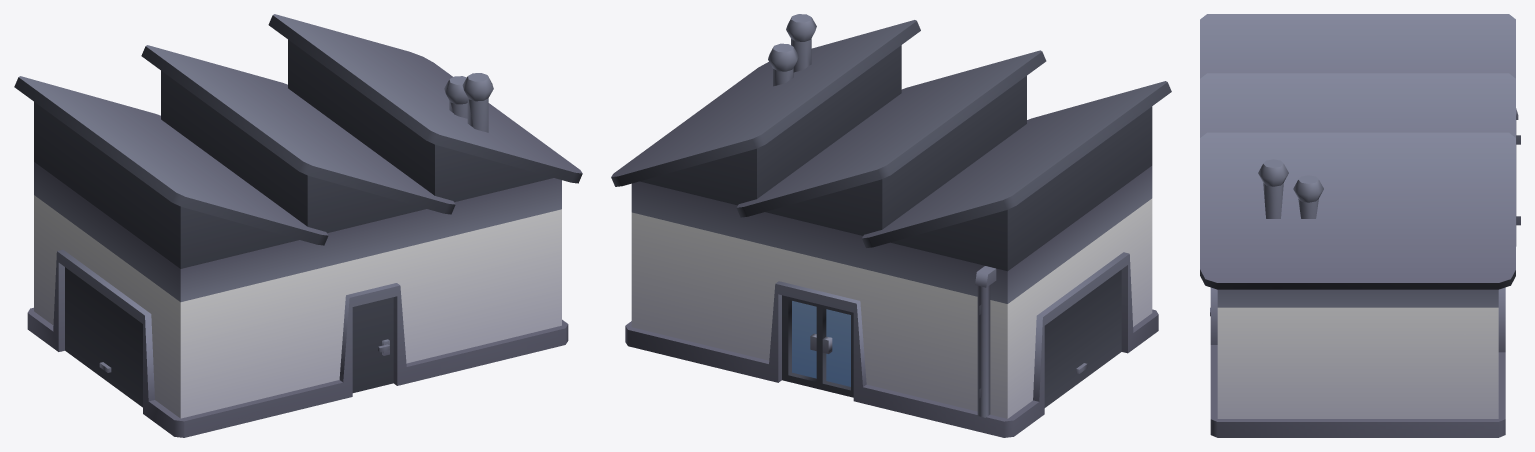
The model's file is building-k.lod.glb.
The picture shows the model from 3 angles, left to right: view 1: azimuth 30°, elevation 25°; view 2: azimuth 150°, elevation 25°; view 3: azimuth 270°, elevation 25°; orthographic projection. The views are drawn at different scales.
Parts seen in each view (by area): view 1: building-k; view 2: building-k; view 3: building-k.
Part boxes in pixels (x1,y1,x2,y2): building-k: (14, 14, 582, 437); building-k: (611, 14, 1171, 437); building-k: (1200, 14, 1520, 437).
Size of the model in its own units: 1.3 by 0.7727 by 0.9136.
Materials: 1 (1 with a texture image).
